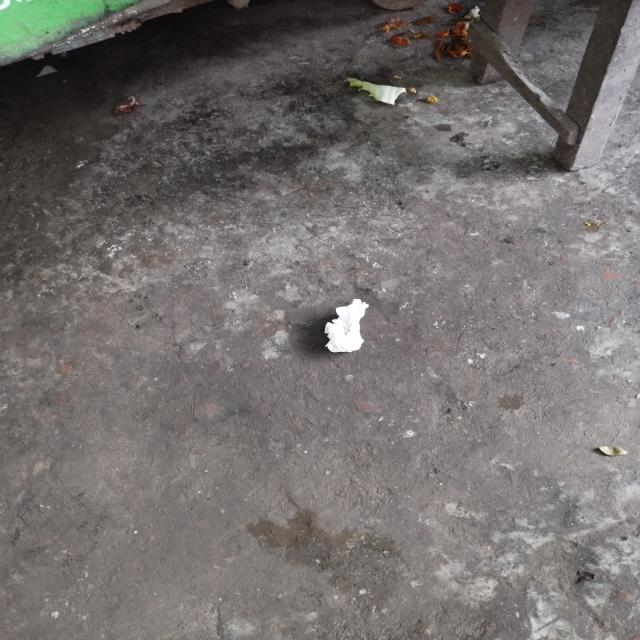paper: (317, 300, 371, 355)
